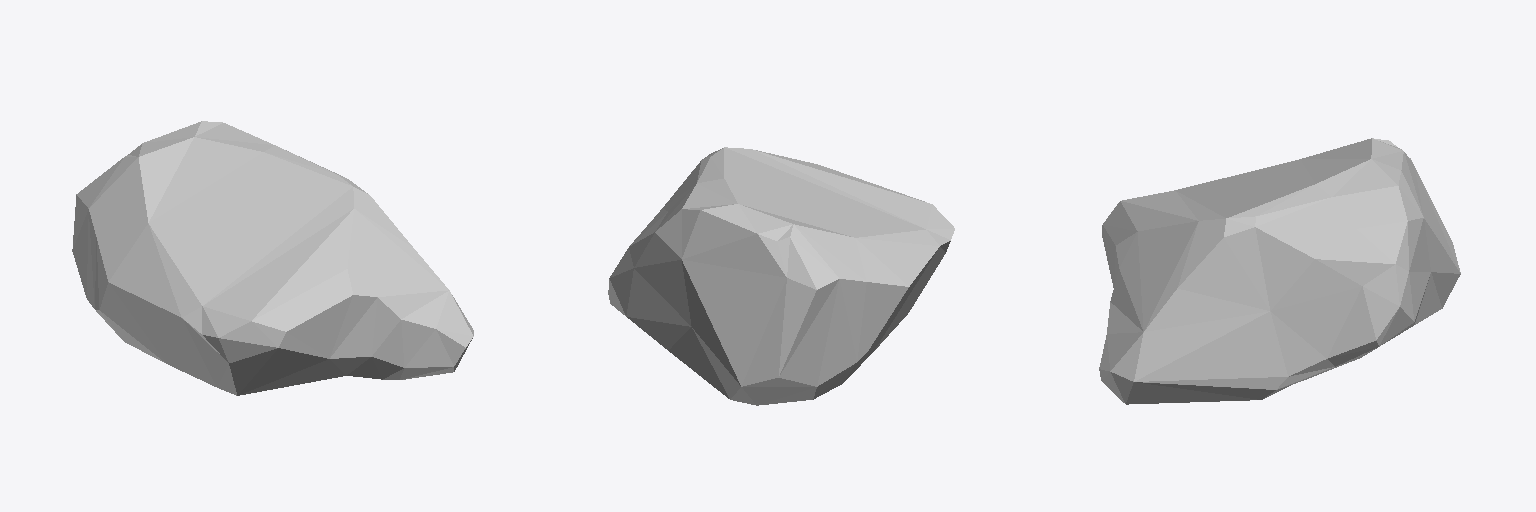
The model's file is rock3.obj.
3 views of the same model, side by side, from view 1: azimuth 30°, elevation 25°; view 2: azimuth 150°, elevation 25°; view 3: azimuth 270°, elevation 25° (orthographic).
Visible parts, largest first — view 1: rocks_6_04.001; view 2: rocks_6_04.001; view 3: rocks_6_04.001.
Part boxes in pixels (bbox=[...]): rocks_6_04.001: bbox=[72, 121, 473, 395]; rocks_6_04.001: bbox=[608, 147, 954, 405]; rocks_6_04.001: bbox=[1099, 138, 1460, 404].
Size of the model in its own units: 3.86 by 2.28 by 4.19.